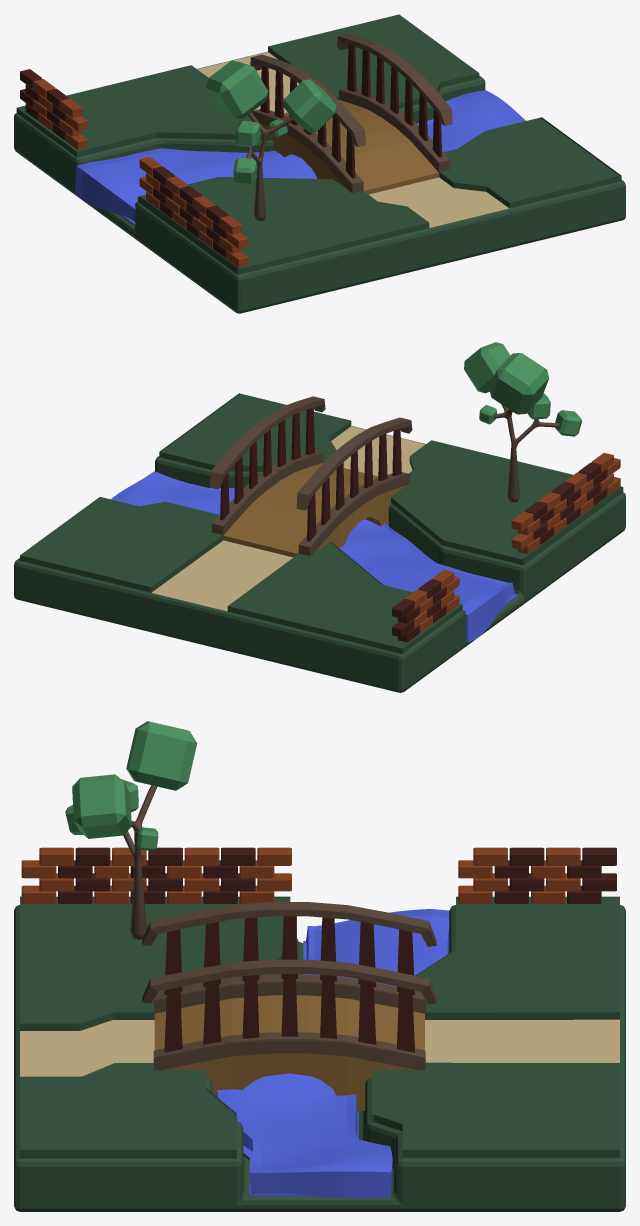
The model's file is bridge_2.fbx.
3 renders of one model, top to bottom at view 1: azimuth 30°, elevation 25°; view 2: azimuth 150°, elevation 25°; view 3: azimuth 270°, elevation 25°, orthographic. The views are drawn at different scales.
Visible parts, largest first — view 1: Plane, Plane.001, Plane.003, Cube, Brick, Brick.001, Vert.001; view 2: Plane, Plane.001, Plane.003, Cube, Brick, Brick.001, Vert.001; view 3: Plane, Plane.001, Plane.003, Brick, Brick.001, Cube, Vert.001.
Part boxes in pixels (left/top/right/bottom): Plane: left=14, top=14, right=625, bottom=313; Plane.001: left=250, top=33, right=452, bottom=194; Plane.003: left=75, top=90, right=525, bottom=221; Cube: left=206, top=60, right=336, bottom=184; Brick: left=139, top=156, right=248, bottom=267; Brick.001: left=20, top=69, right=87, bottom=149; Vert.001: left=246, top=112, right=293, bottom=220; Plane: left=14, top=393, right=625, bottom=692; Plane.001: left=209, top=396, right=412, bottom=557; Plane.003: left=111, top=471, right=514, bottom=642; Cube: left=464, top=342, right=582, bottom=436; Brick: left=511, top=452, right=620, bottom=554; Brick.001: left=392, top=569, right=459, bottom=642; Vert.001: left=494, top=404, right=559, bottom=502; Plane: left=14, top=896, right=625, bottom=1211; Plane.001: left=142, top=902, right=436, bottom=1111; Plane.003: left=217, top=909, right=449, bottom=1198; Brick: left=21, top=847, right=291, bottom=903; Brick.001: left=458, top=847, right=616, bottom=903; Cube: left=65, top=721, right=197, bottom=850; Vert.001: left=123, top=785, right=156, bottom=939.
Bounding box in the file's own units: 805 × 392 × 800.
